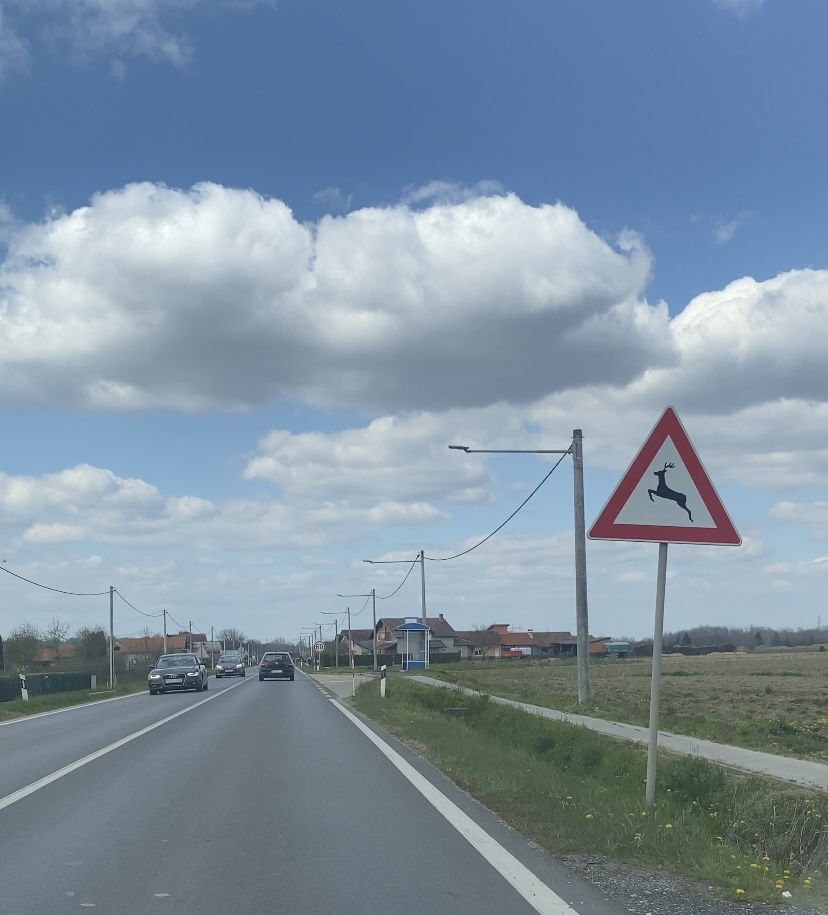Divljač na cesti: (587, 405, 741, 546)
